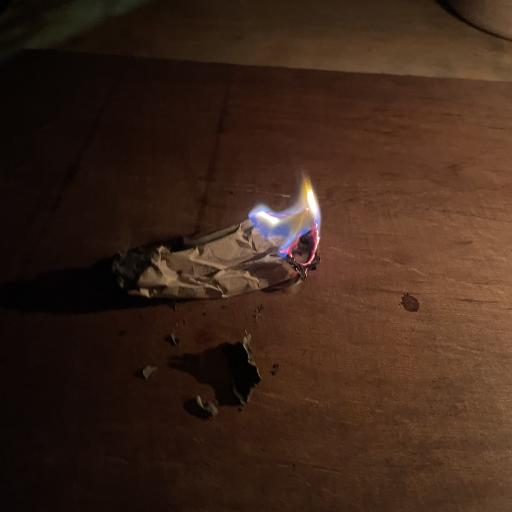fire: (246, 169, 350, 289)
